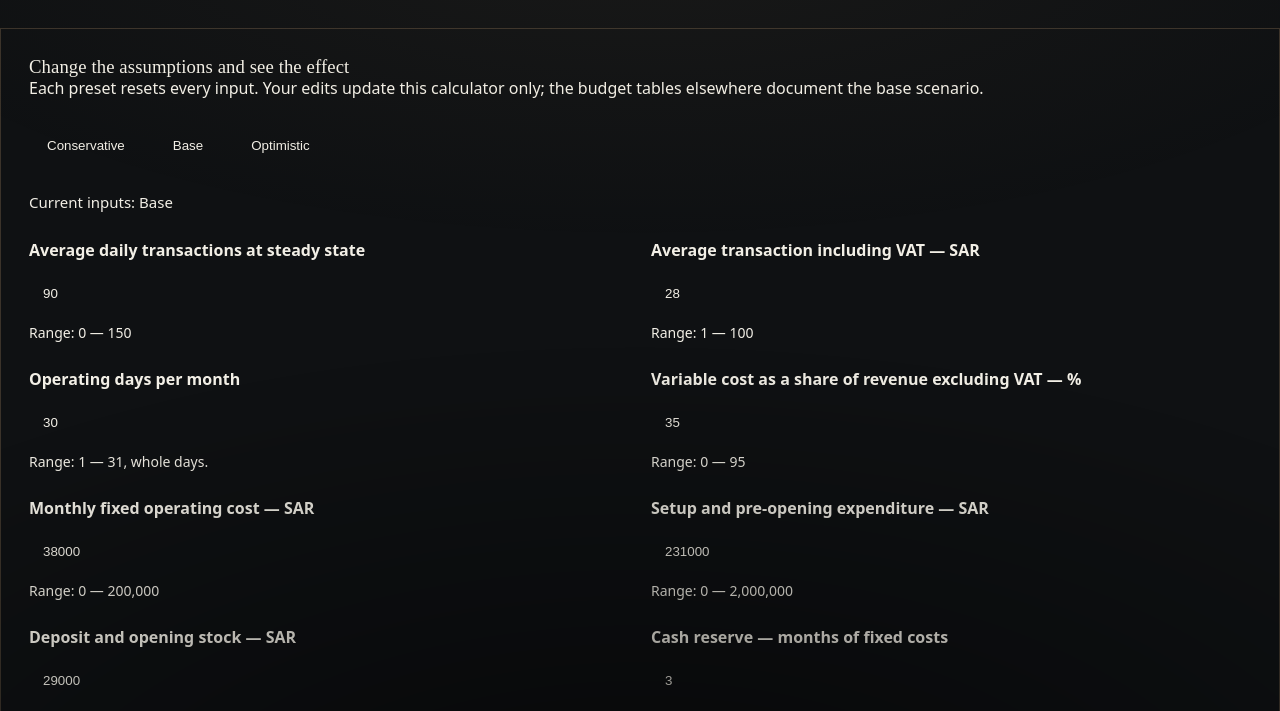
it: feasibility visitor flow › withholds results for empty or out-of-capacity inputs, then recovers through a preset
The image size is (1280, 711).
Clear the number field labelled "Average daily transactions at steady state". click: [329, 293]
box: left=29, top=269, right=629, bottom=317
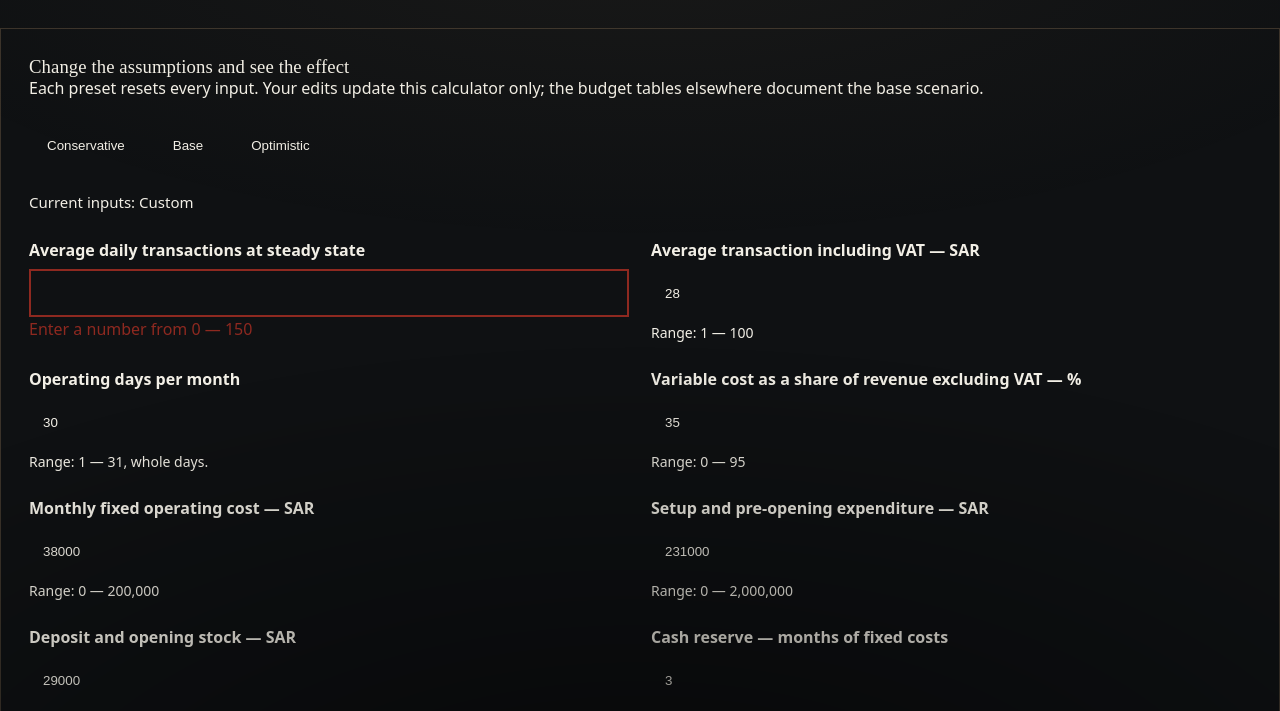
Expected: the number field labelled "Average daily transactions at steady state" is marked as invalid
Type "151" into the number field labelled "Average daily transactions at steady state". click: [329, 293]
box: left=29, top=269, right=629, bottom=317
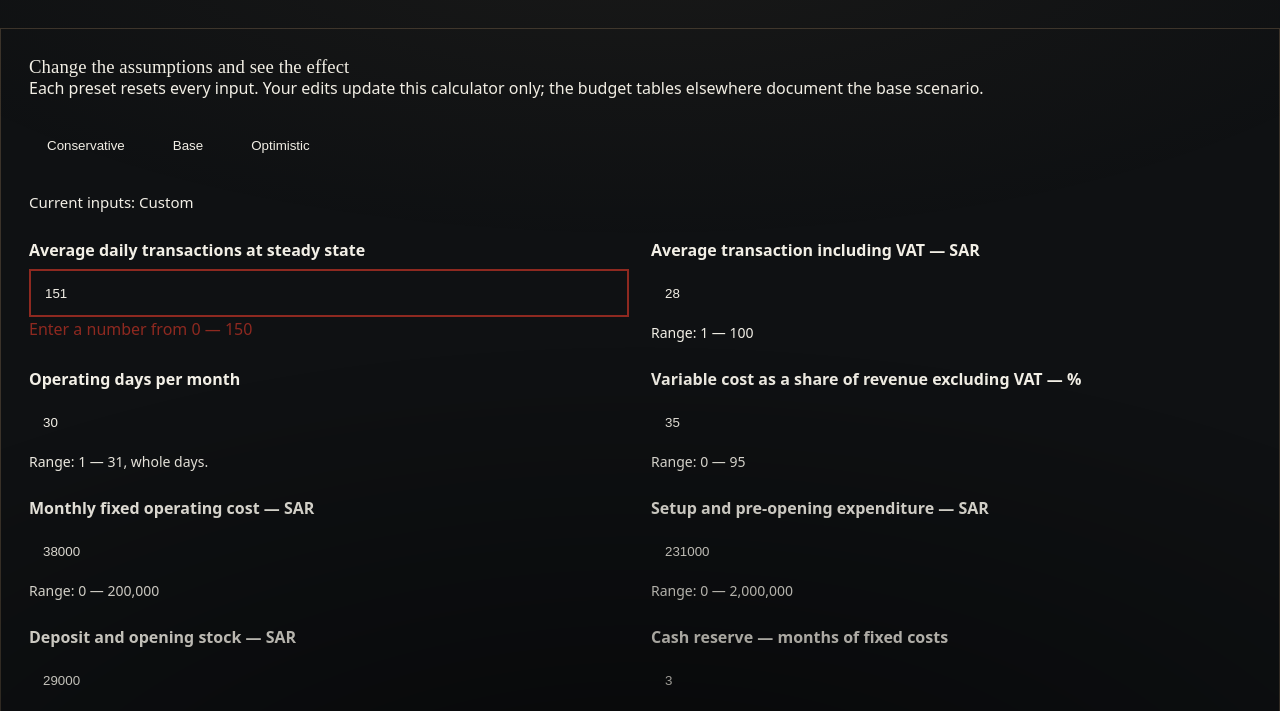
Click the button "Optimistic". click: [280, 146]
box: left=233, top=122, right=328, bottom=170
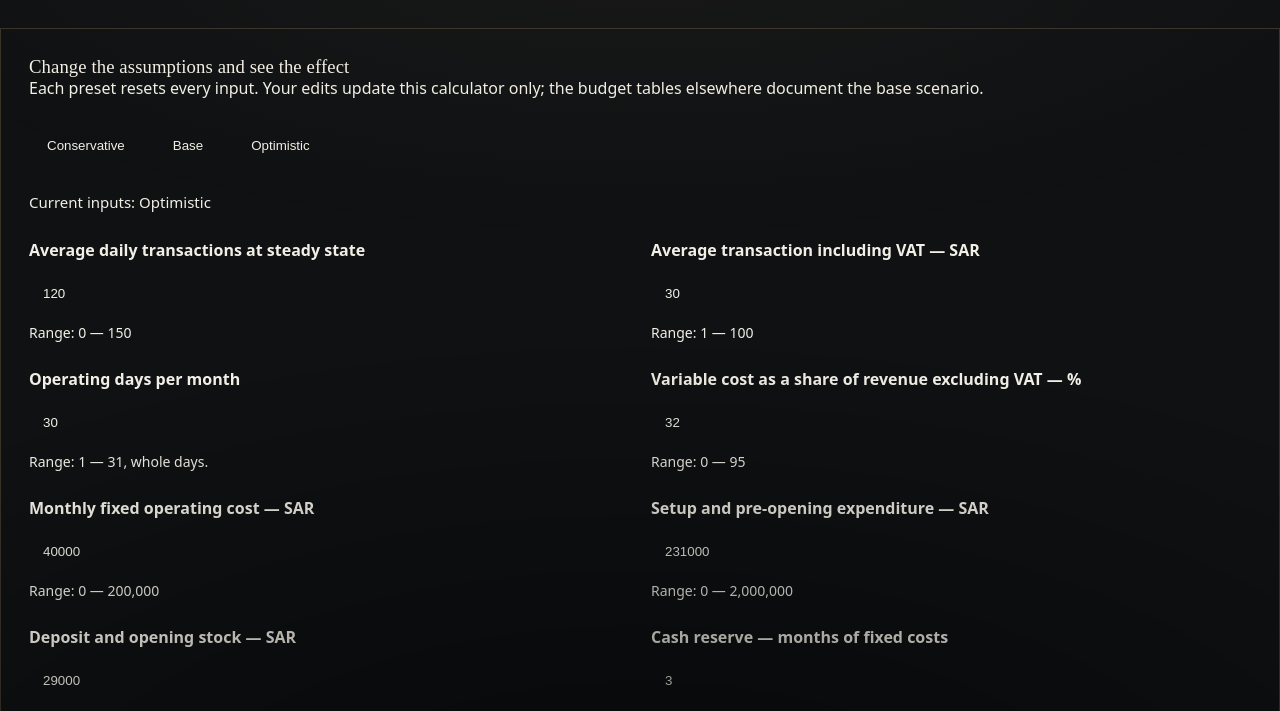
Expected: the number field labelled "Average daily transactions at steady state" holds "120", left=29, top=269, right=629, bottom=317
Expected: the number field labelled "Average transaction including VAT — SAR" holds "30", left=651, top=269, right=1251, bottom=317
Expected: the number field labelled "Monthly fixed operating cost — SAR" holds "40000", left=29, top=527, right=629, bottom=575
